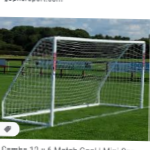goals: (1, 33, 147, 127)
